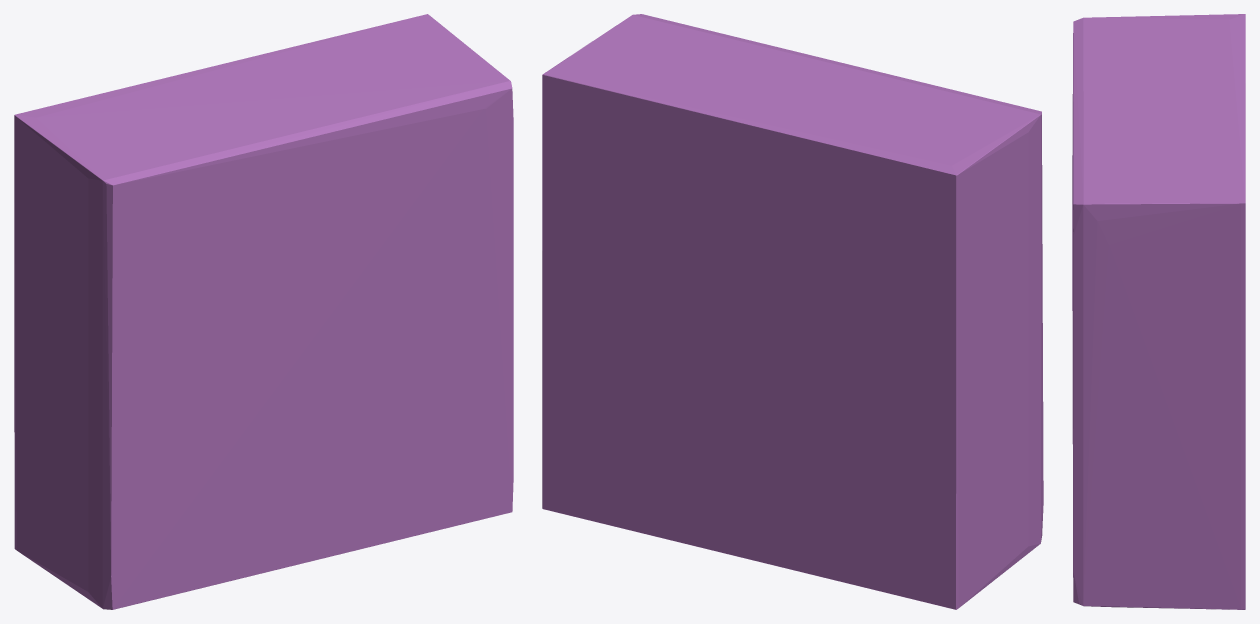
The model's file is crate_plywood_a04.glb.
The picture shows the model from 3 angles, left to right: view 1: azimuth 30°, elevation 25°; view 2: azimuth 150°, elevation 25°; view 3: azimuth 270°, elevation 25°; orthographic projection. The views are drawn at different scales.
Parts seen in each view (by area): view 1: geometry_0; view 2: geometry_0; view 3: geometry_0.
Part boxes in pixels (box(x1,y1,x2,y2)): geometry_0: box(14, 14, 513, 609); geometry_0: box(542, 14, 1043, 609); geometry_0: box(1072, 14, 1245, 609).
Size of the model in its own units: 0.4786 by 0.48 by 0.1854.
